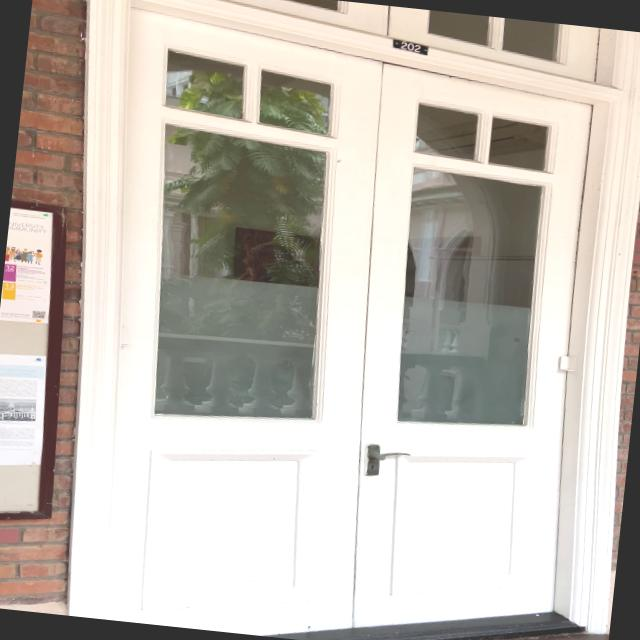room202: (386, 34, 430, 57)
